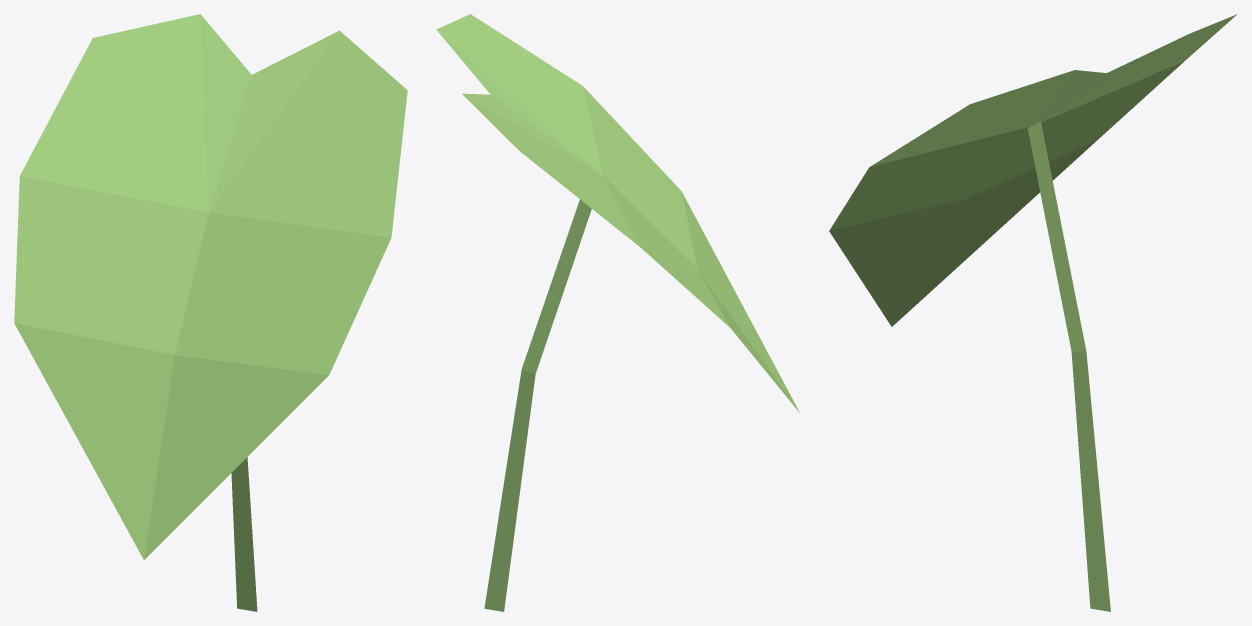
Rendered from Plant_d_OneS_02.fbx.
The picture shows the model from 3 angles, left to right: view 1: azimuth 30°, elevation 25°; view 2: azimuth 150°, elevation 25°; view 3: azimuth 270°, elevation 25°; orthographic projection. The views are drawn at different scales.
Visible parts, largest first — view 1: Plant_d_OneS_02; view 2: Plant_d_OneS_02; view 3: Plant_d_OneS_02.
Part boxes in pixels (bbox=[...]): Plant_d_OneS_02: bbox=[14, 14, 407, 611]; Plant_d_OneS_02: bbox=[436, 14, 800, 611]; Plant_d_OneS_02: bbox=[829, 14, 1237, 611].
Size of the model in its own units: 0.4066 by 0.6677 by 0.4299.
